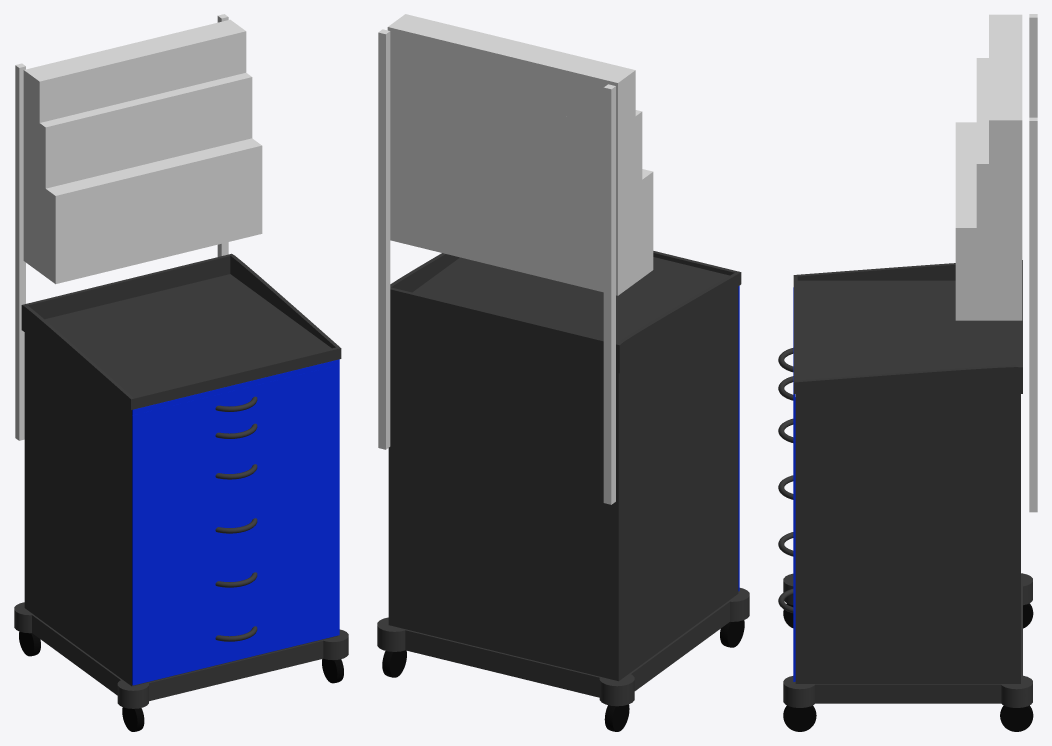
The model's file is Anethesia Cart v1.6.FBX.
The picture shows the model from 3 angles, left to right: view 1: azimuth 30°, elevation 25°; view 2: azimuth 150°, elevation 25°; view 3: azimuth 270°, elevation 25°; orthographic projection. The views are drawn at different scales.
Visible parts, largest first — view 1: DrawerContainer, TopWorkspace, Box003, Box004, Box005, DrawerB04, DrawerB02, DrawerB03, DrawerB01, BottomSupport, DrawerS01, DrawerS02 (+2 smaller); view 2: DrawerContainer, Box003, TopWorkspace, Box004, Box005, BottomSupport, Box002, Box001; view 3: DrawerContainer, TopWorkspace, Box003, BottomSupport, Box005, Box004, Box001, Box002, Wheel03, Wheel04.
Part boxes in pixels (x1=…): DrawerContainer: x1=24, y1=332, x2=337, y2=686; TopWorkspace: x1=21, y1=253, x2=341, y2=409; Box003: x1=23, y1=138, x2=262, y2=284; Box004: x1=23, y1=73, x2=252, y2=188; Box005: x1=23, y1=19, x2=246, y2=122; DrawerB04: x1=132, y1=581, x2=339, y2=685; DrawerB02: x1=132, y1=473, x2=339, y2=577; DrawerB03: x1=132, y1=527, x2=339, y2=631; DrawerB01: x1=132, y1=419, x2=339, y2=523; BottomSupport: x1=14, y1=602, x2=348, y2=708; DrawerS01: x1=132, y1=365, x2=339, y2=442; DrawerS02: x1=132, y1=392, x2=339, y2=469; DrawerContainer: x1=388, y1=287, x2=738, y2=681; Box003: x1=390, y1=142, x2=653, y2=295; TopWorkspace: x1=390, y1=251, x2=741, y2=373; Box004: x1=390, y1=74, x2=642, y2=197; Box005: x1=387, y1=14, x2=635, y2=129; BottomSupport: x1=377, y1=588, x2=749, y2=706; Box002: x1=603, y1=84, x2=615, y2=504; Box001: x1=378, y1=29, x2=390, y2=449; DrawerContainer: x1=795, y1=394, x2=1020, y2=683; TopWorkspace: x1=793, y1=260, x2=1022, y2=393; Box003: x1=955, y1=122, x2=1022, y2=320; BottomSupport: x1=783, y1=573, x2=1032, y2=707; Box005: x1=989, y1=14, x2=1022, y2=163; Box004: x1=976, y1=58, x2=1022, y2=227; Box001: x1=1029, y1=117, x2=1037, y2=512; Box002: x1=1029, y1=14, x2=1037, y2=117; Wheel03: x1=783, y1=705, x2=816, y2=731; Wheel04: x1=1000, y1=705, x2=1033, y2=731.
Bounding box in the file's own units: 66 × 162 × 62.14.
